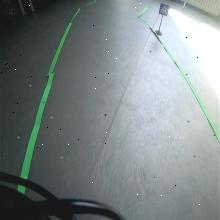crosswalk: (158, 3, 170, 16)
